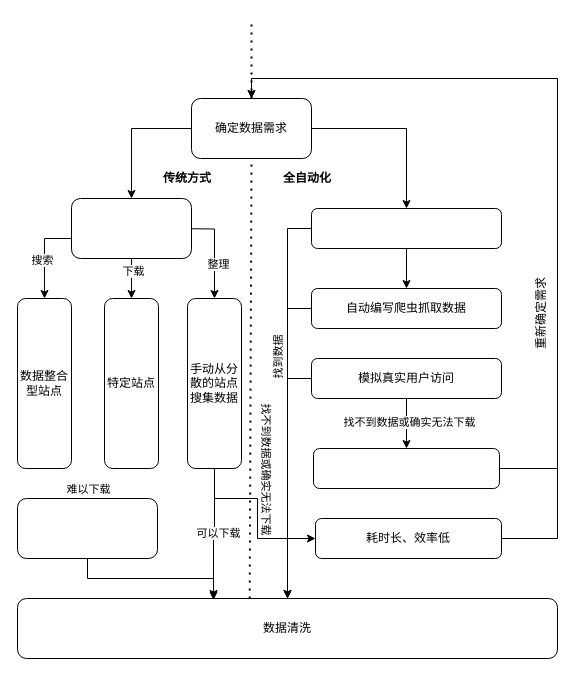
This 583x676 diagram has some shape labels left out. Here are the shapes that lost their labels. From the top down, the box of each, then its label:
(70, 198, 192, 258): 手动收集数据
(310, 208, 502, 248): 自动访问数据整合型网站
(312, 448, 500, 488): 耗时少、效率高
(16, 498, 158, 558): 分析网页，编写爬虫，强行抓取
